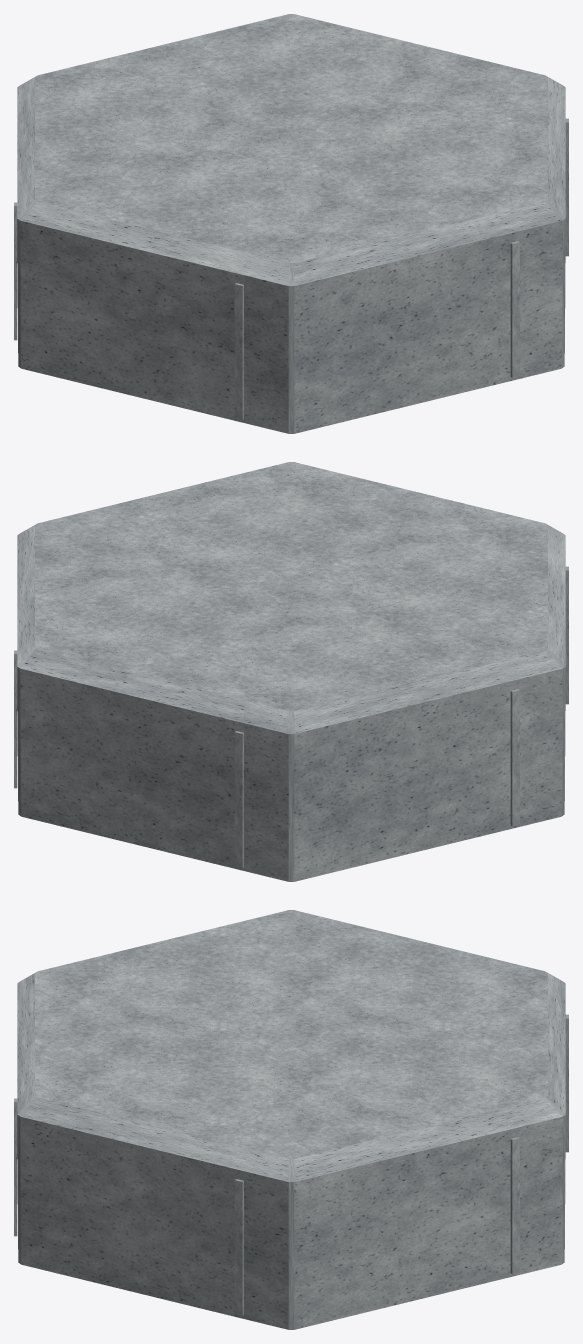
Rendered from concrete-interlocking-hexagon.glb.
3 renders of one model, top to bottom at view 1: azimuth 30°, elevation 25°; view 2: azimuth 150°, elevation 25°; view 3: azimuth 270°, elevation 25°, orthographic.
Visible parts, largest first — view 1: concrete-interlocking-hexagon; view 2: concrete-interlocking-hexagon; view 3: concrete-interlocking-hexagon.
Part boxes in pixels (bbox=[...]): concrete-interlocking-hexagon: bbox=[14, 14, 568, 433]; concrete-interlocking-hexagon: bbox=[14, 462, 568, 881]; concrete-interlocking-hexagon: bbox=[14, 910, 568, 1329].
Size of the model in its own units: 0.2387 by 0.068 by 0.2102.
Materials: 1 (1 with a texture image).
